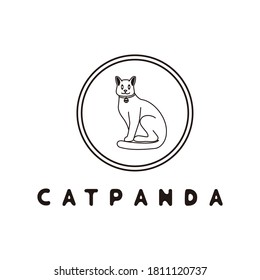dog: (110, 70, 167, 148)
